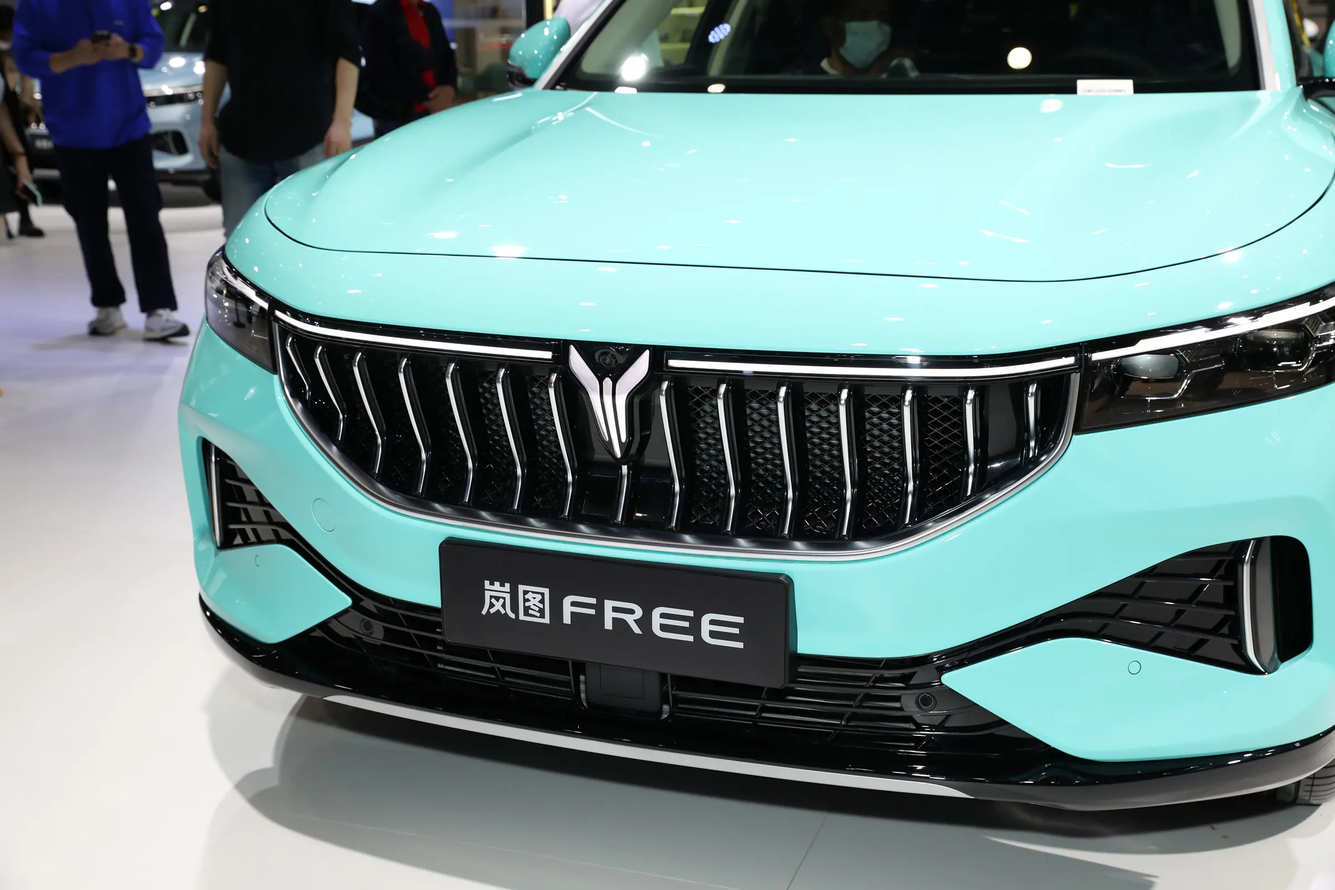VOYAH: (570, 345, 649, 458)
